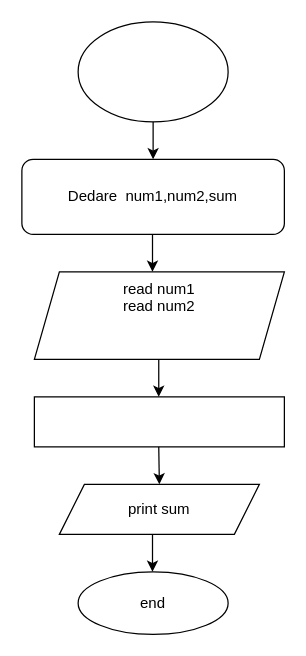
The diagram is 306 pixels wide and 656 high, and some of its shapes have lost their labels. Each missing label, with the box of its shape:
start: (77, 21, 228, 122)
sum=num1+num2: (33, 396, 284, 447)
